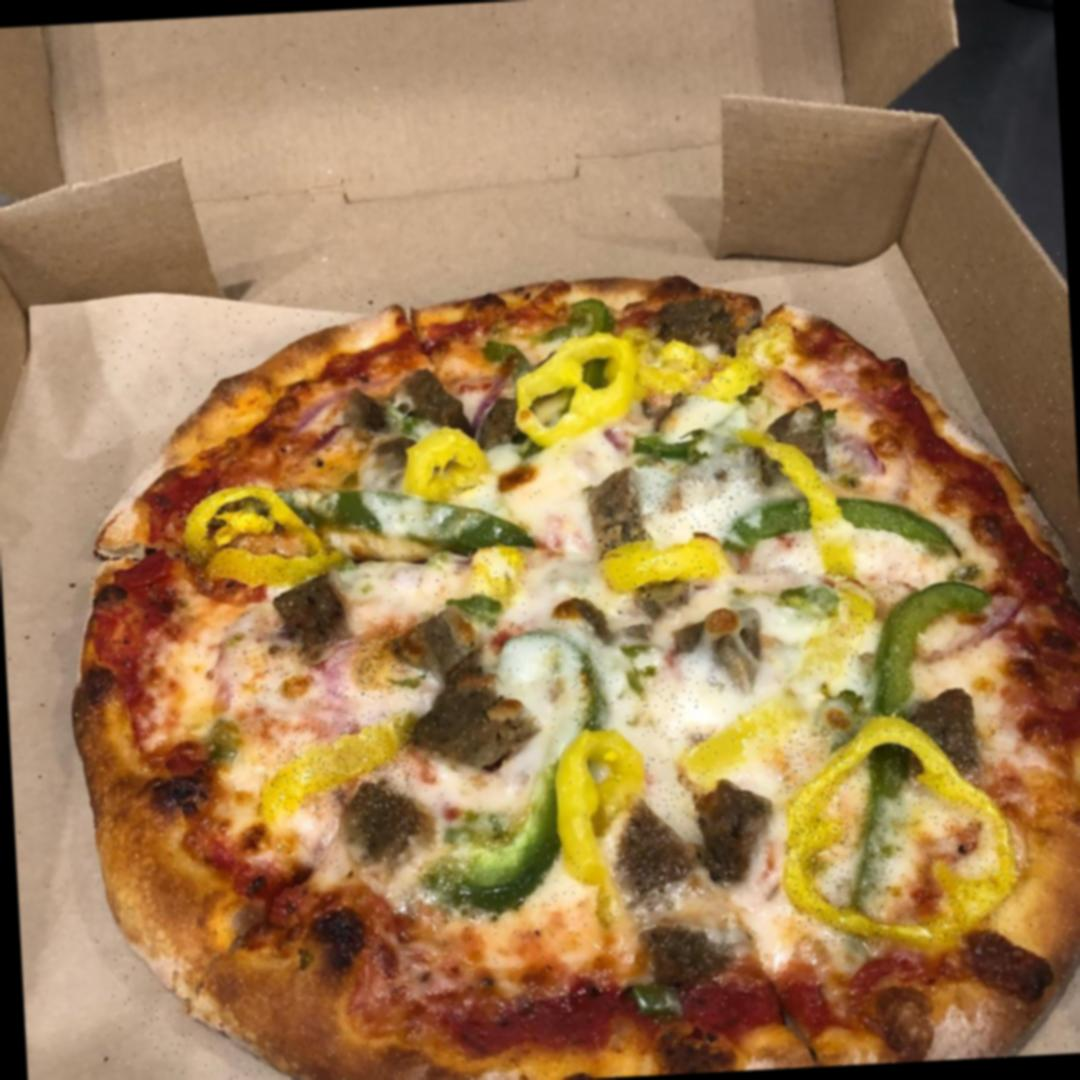Cheese: (228, 638, 413, 708), (639, 652, 707, 827), (539, 460, 598, 611), (628, 464, 744, 539)
Peppers: (783, 718, 1017, 949), (838, 578, 937, 926), (734, 489, 966, 575), (274, 483, 544, 553), (759, 425, 865, 600), (179, 482, 334, 596), (255, 708, 416, 814), (507, 727, 647, 848), (515, 329, 642, 447), (636, 313, 794, 405), (422, 846, 560, 914), (603, 536, 733, 594), (392, 425, 488, 495), (498, 618, 603, 662), (469, 546, 528, 606), (572, 656, 606, 732)
Pizza: (74, 250, 1080, 1080)
